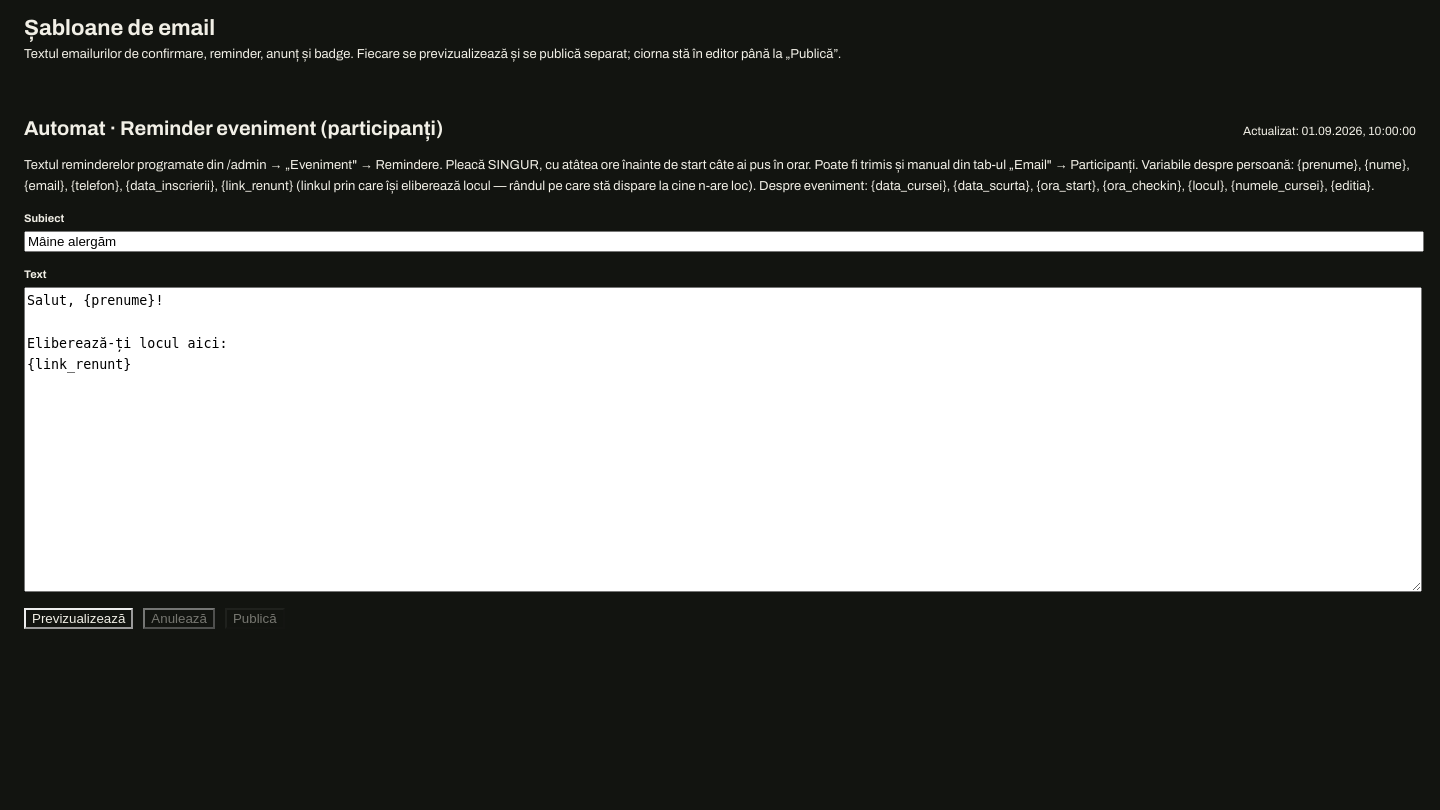
Test: AdminTemplatesTab — previzualizarea HTML › un eșec de randare nu lasă un cadru gol care pare emailul real
What coordinates should you click on to do the following:
click the button "Previzualizează"
I would click on:
 (79, 618)
Its box is x1=24 y1=608 x2=133 y2=629.
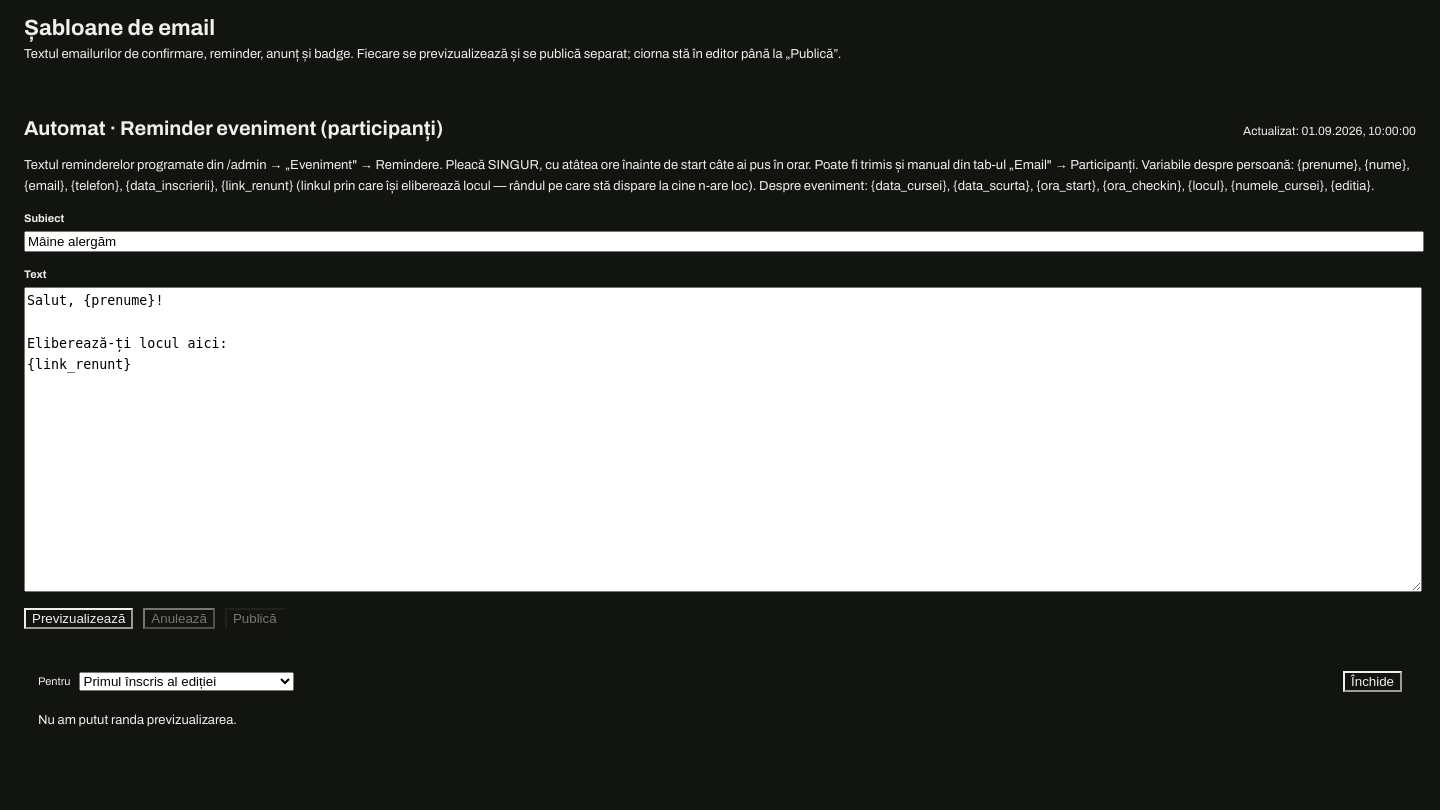
Expected: the text "Nu am putut randa previzualizarea." is shown, x1=38 y1=713 x2=237 y2=727
